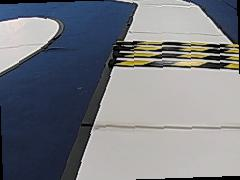bump: (105, 37, 240, 73)
